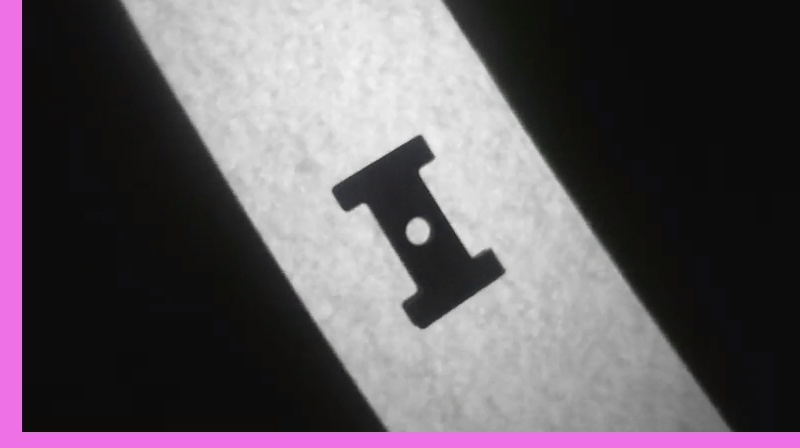O002: (325, 130, 508, 330)
